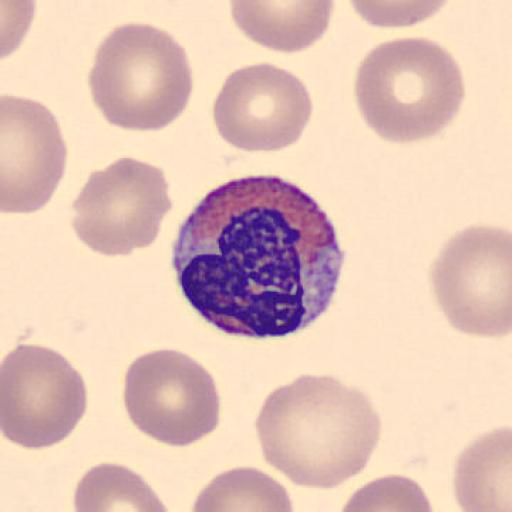RBC: (253, 371, 383, 491), (352, 34, 466, 144), (86, 20, 194, 134), (70, 154, 174, 258), (122, 346, 222, 448), (428, 221, 512, 339), (211, 60, 314, 154), (2, 342, 90, 451), (2, 92, 69, 216), (229, 0, 337, 55), (452, 424, 511, 512), (72, 461, 173, 512), (190, 464, 295, 512), (337, 471, 437, 512), (346, 0, 454, 31), (2, 0, 38, 62)
WBC: (168, 174, 348, 342)
